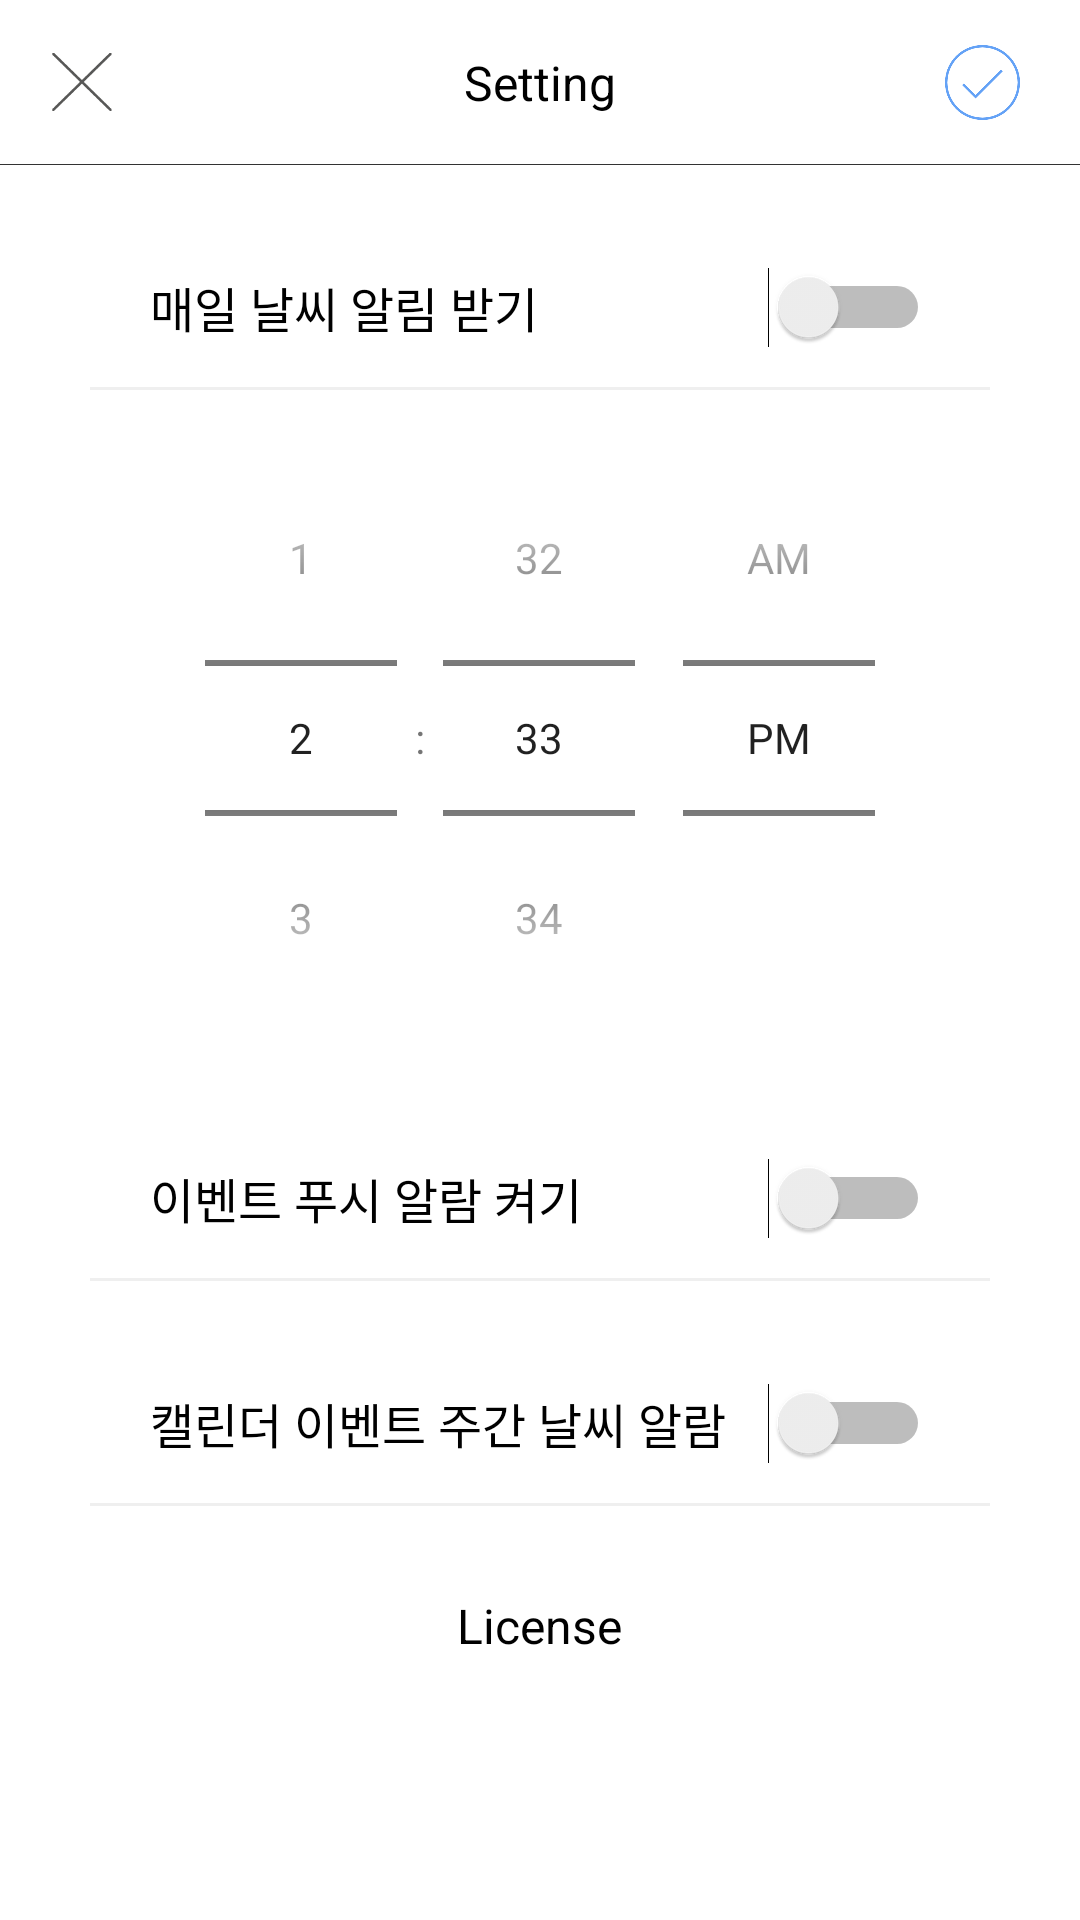

Named icons in this screenshot (1080px x 1920px) and their bounding boxes, bbox(x1, y1, x2, y2):
circlecheckbt: bbox(945, 45, 1020, 120)
